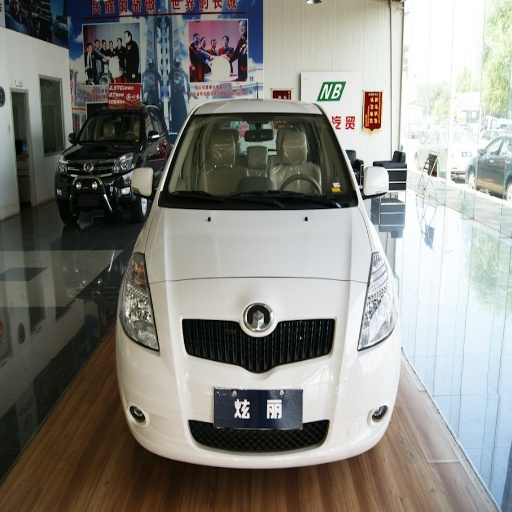front_bumper: (118, 281, 400, 467)
front_right_light: (120, 252, 159, 351)
hood: (149, 207, 373, 281)
